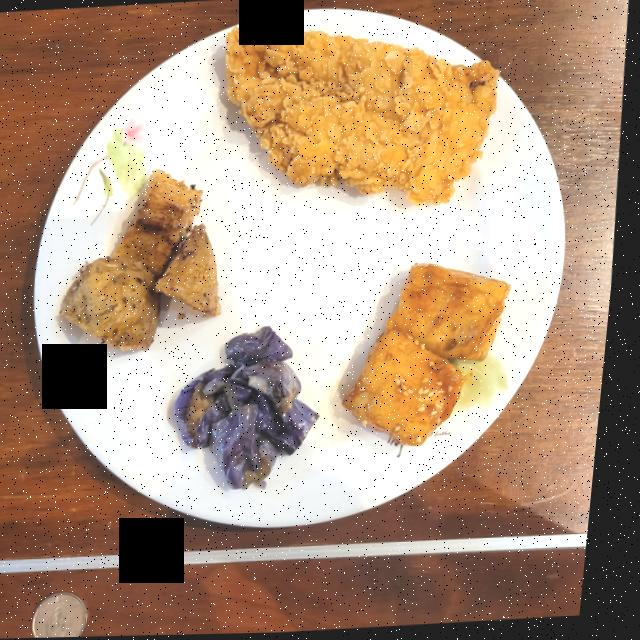coin: (45, 592, 100, 638)
creamy tofu: (351, 264, 516, 447)
fried chicken cutlet: (226, 18, 500, 206)
fried potato: (66, 170, 226, 350)
